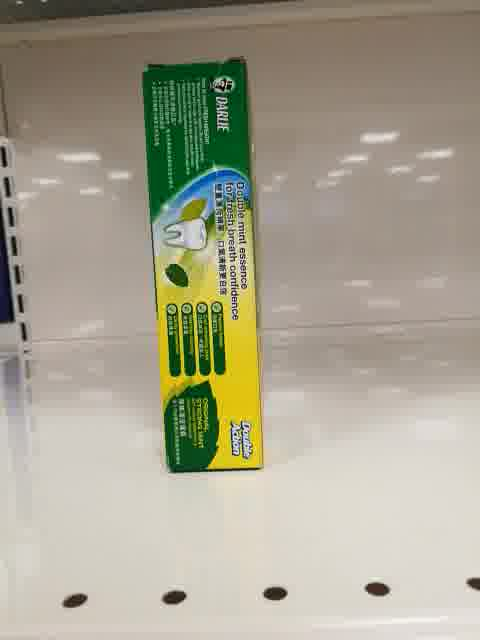toothpaste: (143, 57, 265, 475)
